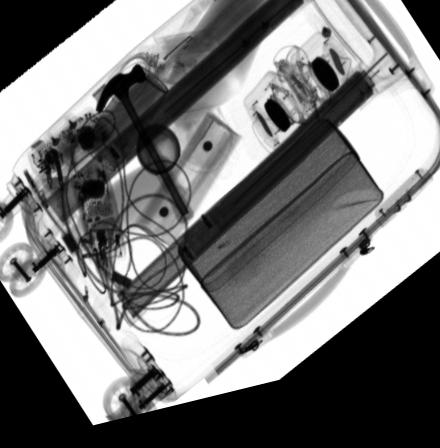Hammer: (95, 68, 194, 232)
